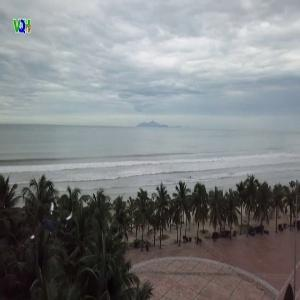drone: (25, 196, 77, 248)
